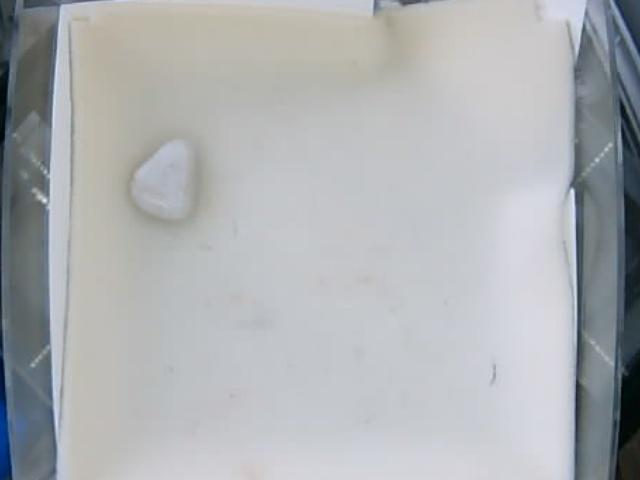Pebble: (130, 136, 197, 221)
